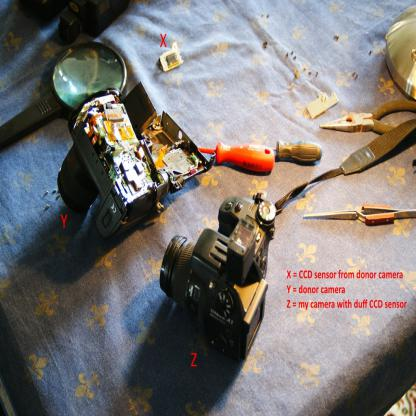Camera: (156, 199, 291, 367)
